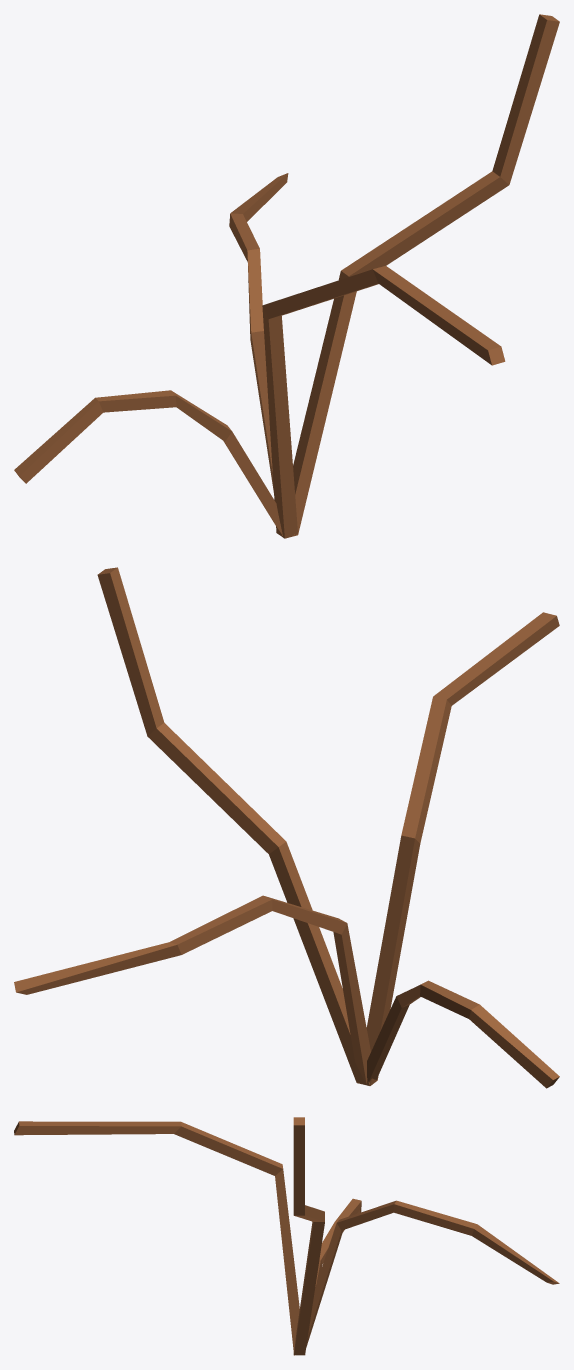
File: Thorns_01.fbx
The picture shows the model from 3 angles, top to bottom: view 1: azimuth 30°, elevation 25°; view 2: azimuth 150°, elevation 25°; view 3: azimuth 270°, elevation 25°; orthographic projection. The views are drawn at different scales.
Parts seen in each view (by area): view 1: Thorns_01; view 2: Thorns_01; view 3: Thorns_01.
Part boxes in pixels (<box>): Thorns_01: <box>14,14,559,538</box>; Thorns_01: <box>14,567,559,1088</box>; Thorns_01: <box>14,1117,559,1355</box>.
Size of the model in its own units: 84.95 by 73.82 by 112.
